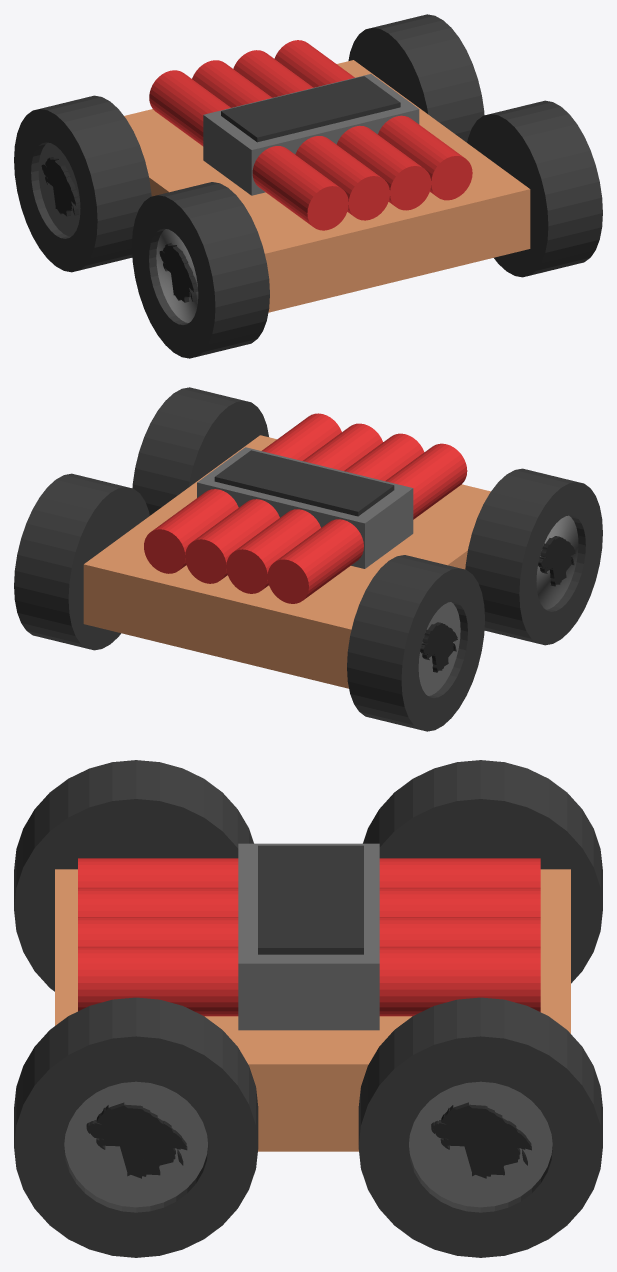
The model's file is kamikaze.fbx.
3 renders of one model, top to bottom at view 1: azimuth 30°, elevation 25°; view 2: azimuth 150°, elevation 25°; view 3: azimuth 270°, elevation 25°, orthographic. The views are drawn at different scales.
Visible parts, largest first — view 1: Cylinder.004, Cube.001, Cylinder.016, Cylinder.011, Cylinder, Cylinder.001, Cylinder.005; view 2: Cylinder.004, Cube.001, Cylinder.011, Cylinder.016, Cylinder.001, Cylinder, Cylinder.005; view 3: Cylinder.004, Cylinder, Cylinder.001, Cube.001, Cylinder.016, Cylinder.011, Cylinder.005.
Part boxes in pixels (box(x1,y1,x2,y2)): Cylinder.004: box(149, 40, 472, 230); Cube.001: box(124, 60, 530, 312); Cylinder.016: box(132, 182, 269, 358); Cylinder.011: box(14, 95, 151, 272); Cylinder: box(467, 100, 602, 277); Cylinder.001: box(348, 14, 484, 142); Cylinder.005: box(221, 76, 400, 142); Cylinder.004: box(144, 413, 467, 603); Cube.001: box(83, 435, 490, 688); Cylinder.011: box(347, 555, 484, 731); Cylinder.016: box(465, 468, 602, 645); Cylinder.001: box(14, 473, 149, 650); Cylinder: box(132, 387, 268, 515); Cylinder.005: box(214, 450, 394, 516); Cylinder.004: box(78, 843, 540, 1030); Cylinder: box(14, 997, 258, 1257); Cylinder.001: box(358, 997, 602, 1257); Cube.001: box(55, 869, 570, 1151); Cylinder.016: box(14, 760, 253, 991); Cylinder.011: box(363, 760, 602, 983); Cylinder.005: box(258, 845, 363, 954).
Size of the model in its own units: 636 by 572 by 242.
